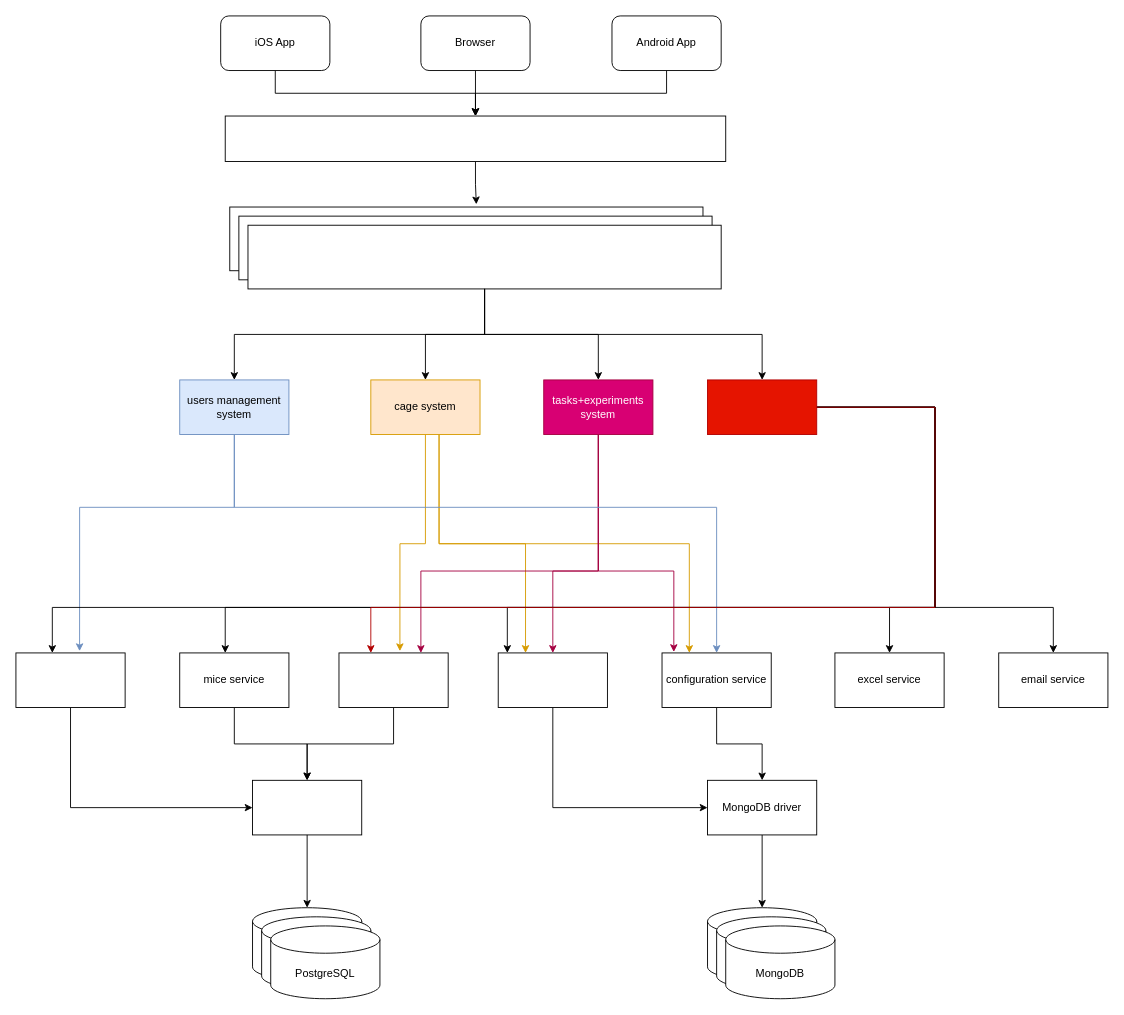
Image size: 1124x1015. Some labels were removed from this diagram. The centre of each missing label's shape, as x and y in pixels:
"cage service" belongs at point (393, 680).
"HTTP Server" belongs at point (484, 256).
"Load Balancer" belongs at point (475, 138).
"notification system" belongs at point (762, 407).
"Postgres SDK" belongs at point (307, 807).
"tasks+experiments service" belongs at point (552, 680).
"users service" belongs at point (70, 680).
